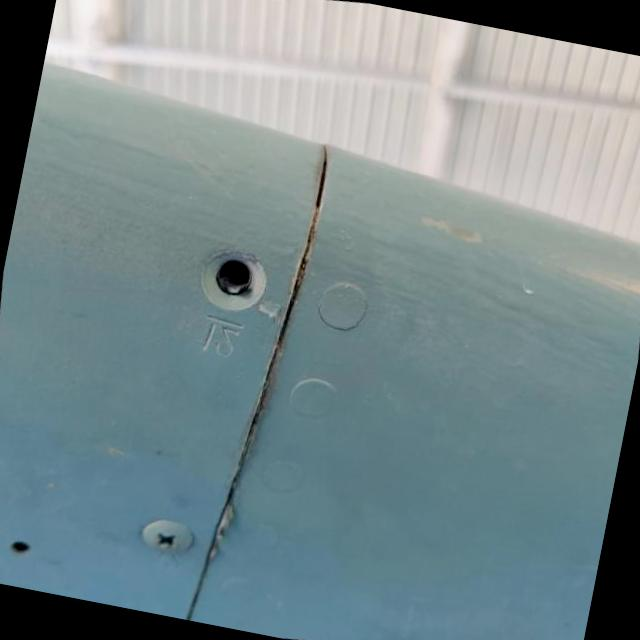Missing Fastener: (185, 238, 272, 320), (2, 529, 40, 567)
